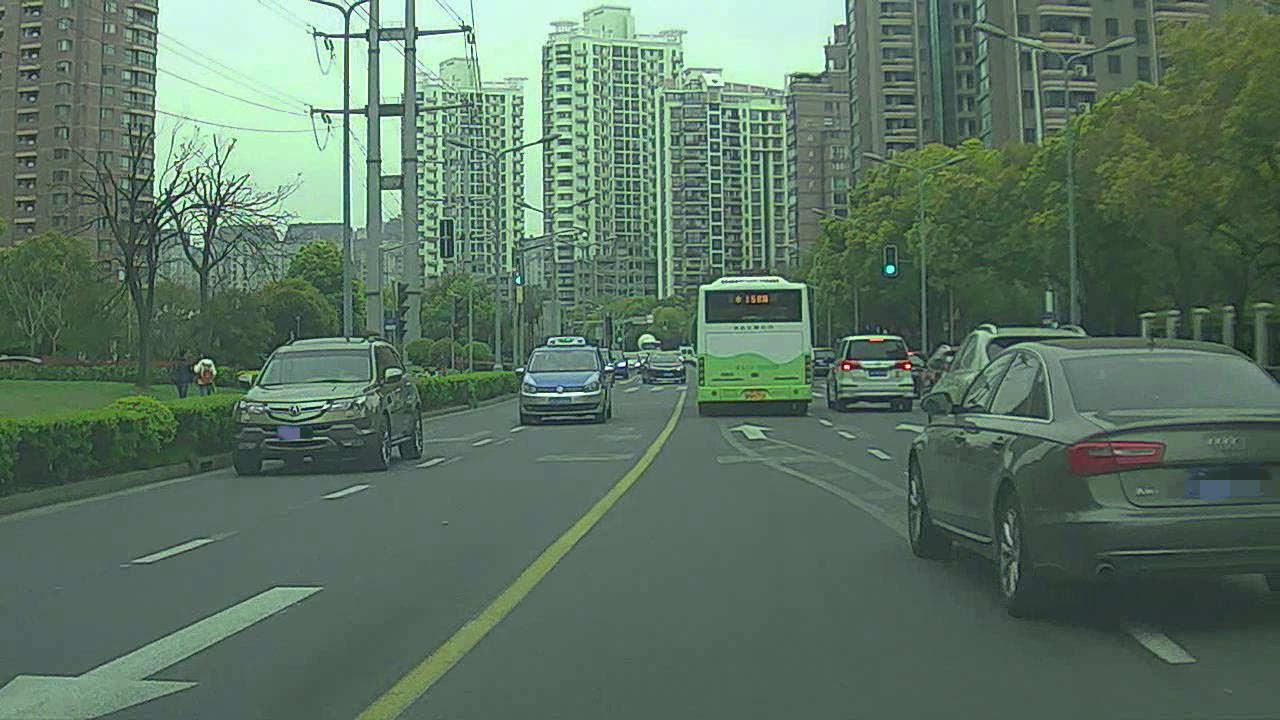traffic_light: (884, 246, 901, 279)
